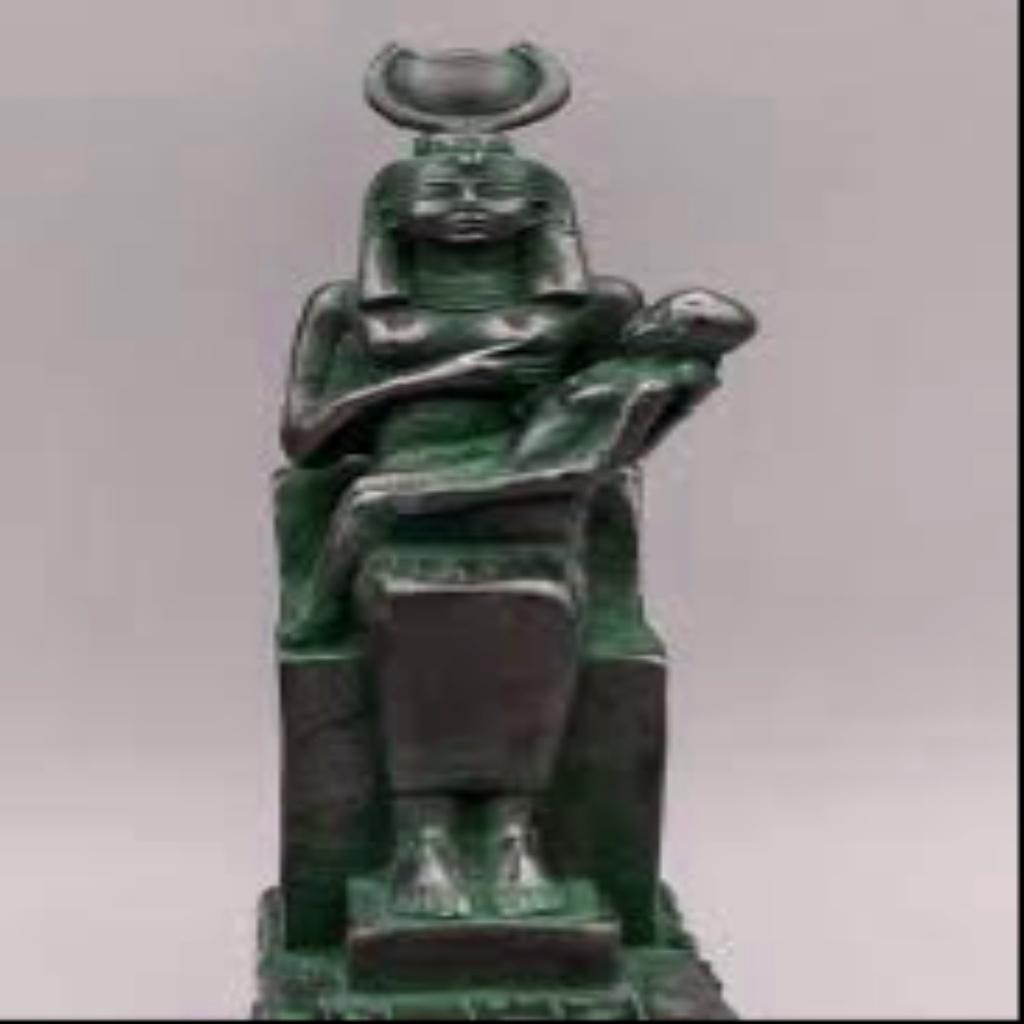Isis with her child: (235, 34, 772, 1016)
